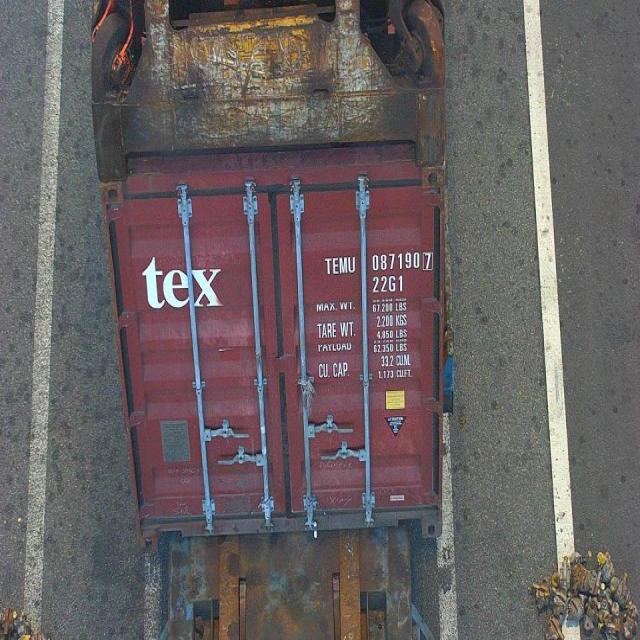ISO: (369, 276, 406, 290)
container_number: (322, 254, 434, 273)
